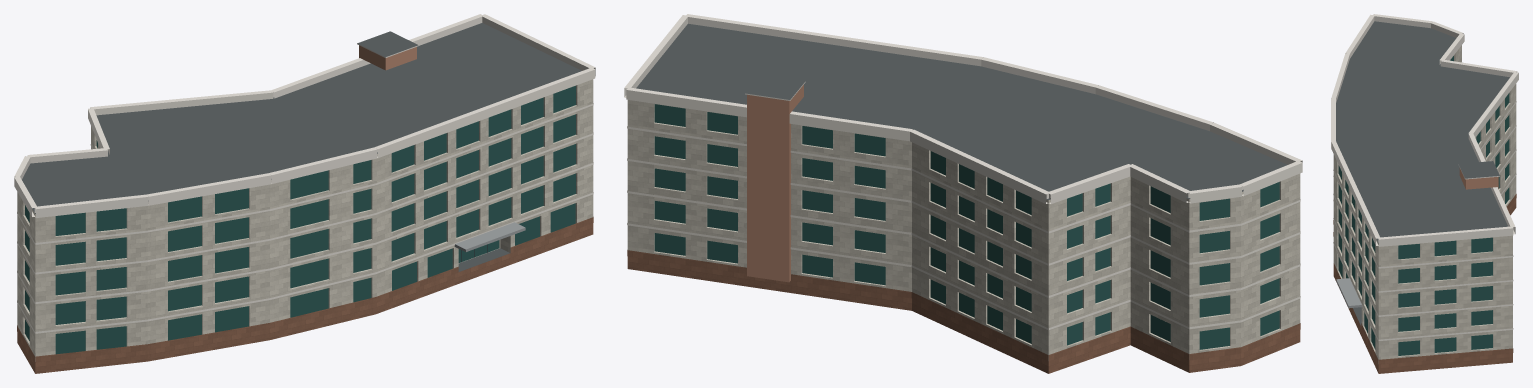
The picture shows the model from 3 angles, left to right: view 1: azimuth 30°, elevation 25°; view 2: azimuth 150°, elevation 25°; view 3: azimuth 270°, elevation 25°; orthographic projection. The views are drawn at different scales.
Visible parts, largest first — view 1: yangBunSoon__wall, yangBunSoon__roof, yangBunSoon__glass, yangBunSoon__trim, yangBunSoon__base, yangBunSoon__canopy, yangBunSoon__wall2; view 2: yangBunSoon__wall, yangBunSoon__roof, yangBunSoon__glass, yangBunSoon__trim, yangBunSoon__base, yangBunSoon__wall2; view 3: yangBunSoon__roof, yangBunSoon__wall, yangBunSoon__trim, yangBunSoon__glass, yangBunSoon__base, yangBunSoon__canopy, yangBunSoon__wall2.
Part boxes in pixels (bbox=[...]): yangBunSoon__wall: bbox=[17, 79, 593, 361]; yangBunSoon__roof: bbox=[22, 23, 581, 271]; yangBunSoon__glass: bbox=[25, 85, 575, 354]; yangBunSoon__trim: bbox=[14, 14, 595, 333]; yangBunSoon__base: bbox=[17, 217, 593, 373]; yangBunSoon__canopy: bbox=[454, 222, 525, 251]; yangBunSoon__wall2: bbox=[359, 45, 416, 70]; yangBunSoon__wall: bbox=[627, 100, 1300, 360]; yangBunSoon__roof: bbox=[636, 23, 1287, 199]; yangBunSoon__glass: bbox=[654, 104, 1279, 349]; yangBunSoon__trim: bbox=[624, 14, 1302, 329]; yangBunSoon__base: bbox=[627, 250, 1300, 373]; yangBunSoon__wall2: bbox=[747, 84, 803, 282]; yangBunSoon__roof: bbox=[1336, 21, 1509, 325]; yangBunSoon__wall: bbox=[1333, 45, 1516, 363]; yangBunSoon__trim: bbox=[1331, 14, 1518, 340]; yangBunSoon__glass: bbox=[1338, 56, 1509, 355]; yangBunSoon__base: bbox=[1333, 194, 1516, 373]; yangBunSoon__canopy: bbox=[1336, 278, 1362, 308]; yangBunSoon__wall2: bbox=[1459, 168, 1498, 189].
Bounding box in the file's own units: 76.08 × 23.1 × 26.76.
Materials: 9 (2 with a texture image).
